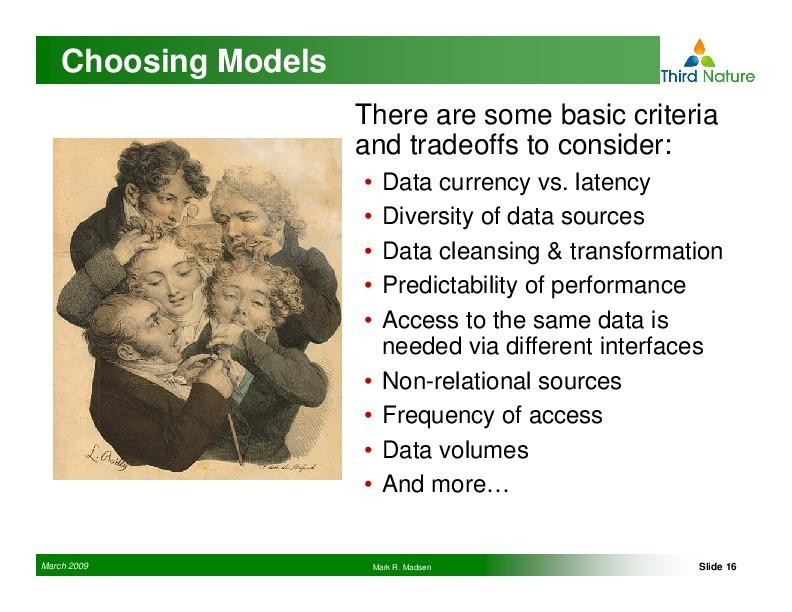paragraph: (355, 97, 748, 530)
title: (58, 31, 343, 94)
